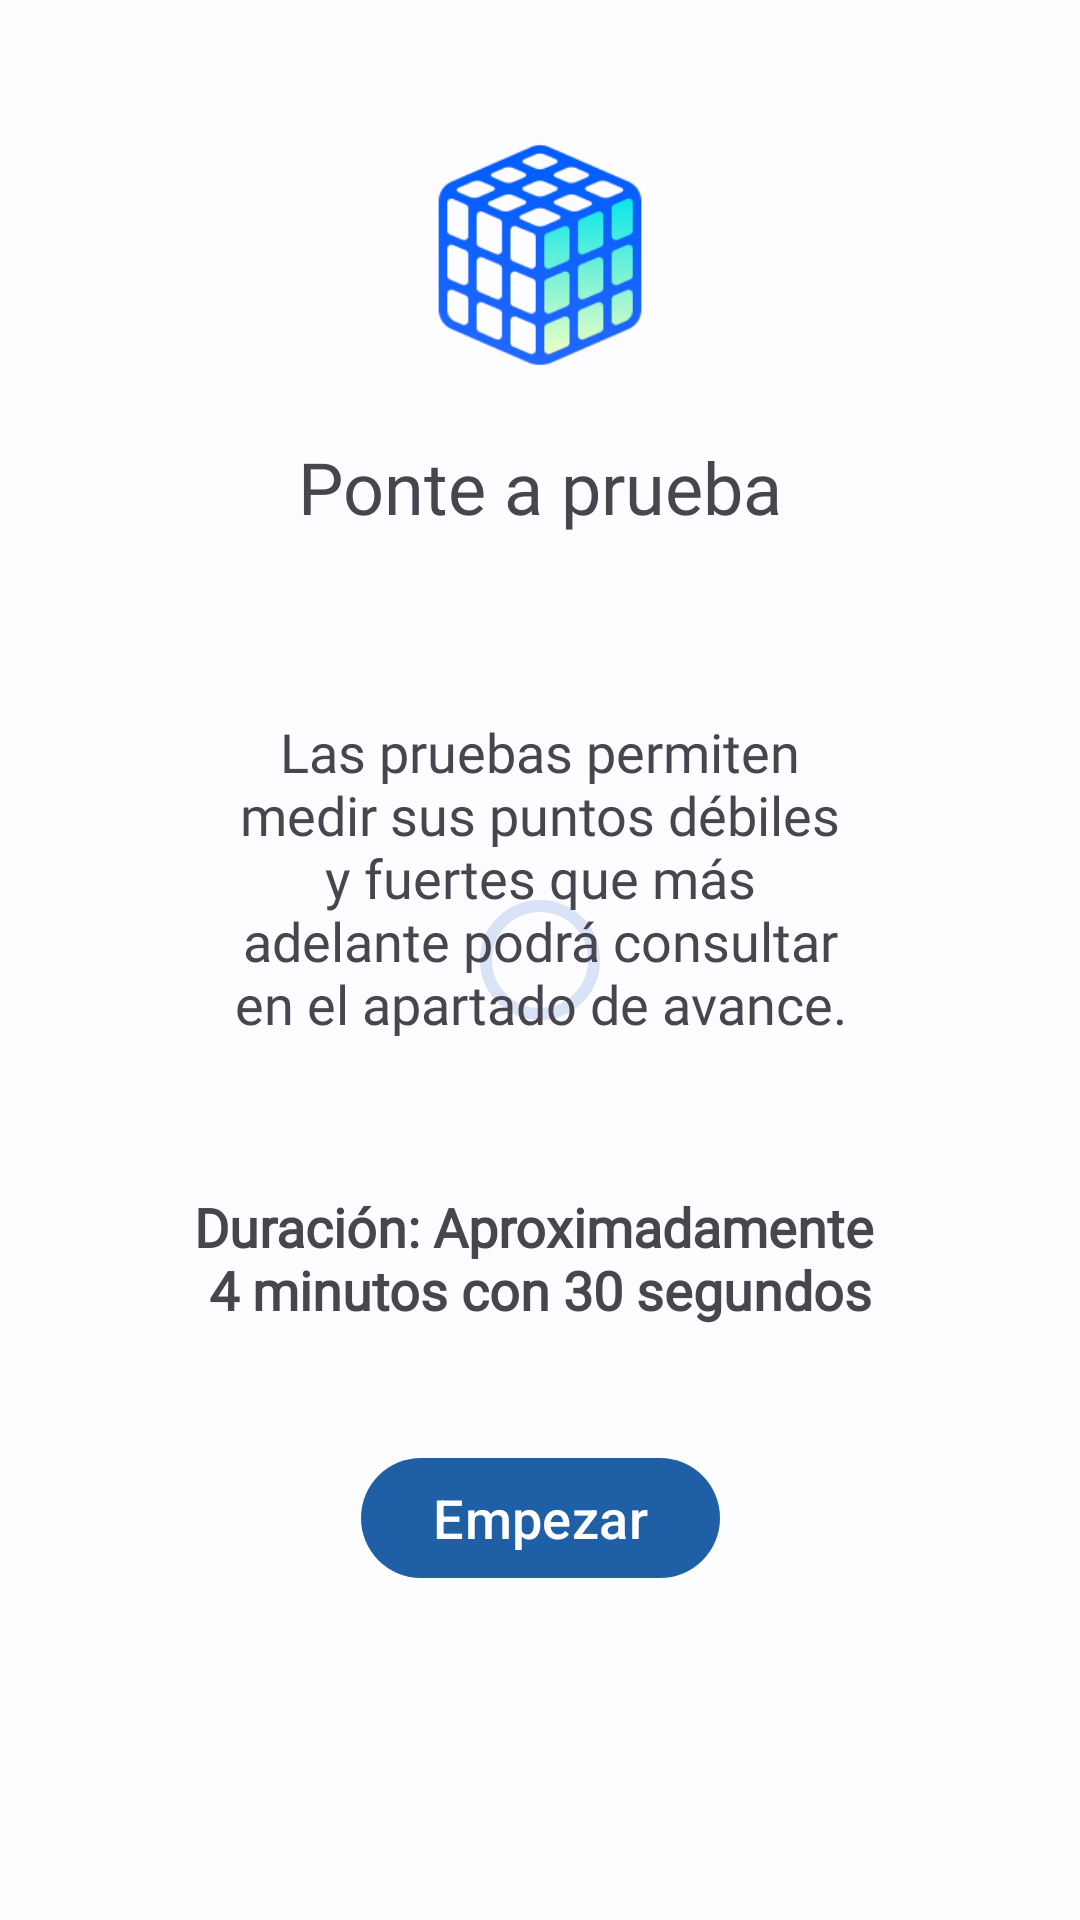

Where to tap for icons on this 1080px×1920px app screen, as (x=x, y=y):
cube: (x=540, y=254)
